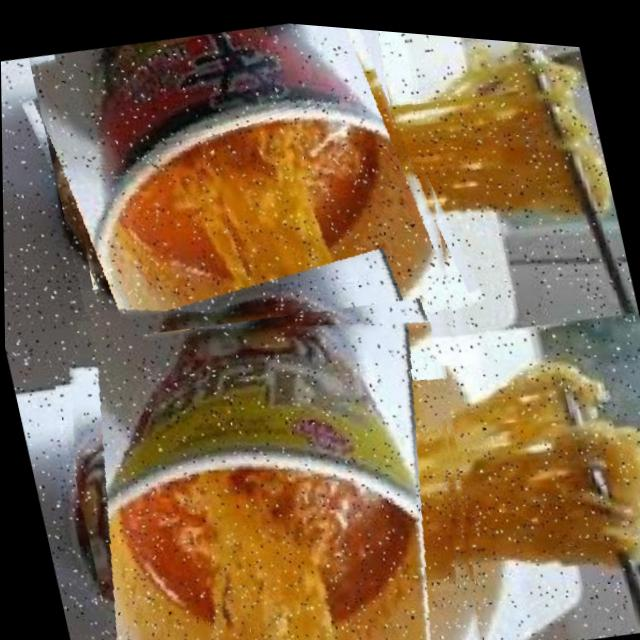Miscellaneous: (26, 1, 480, 432), (44, 266, 502, 640)
